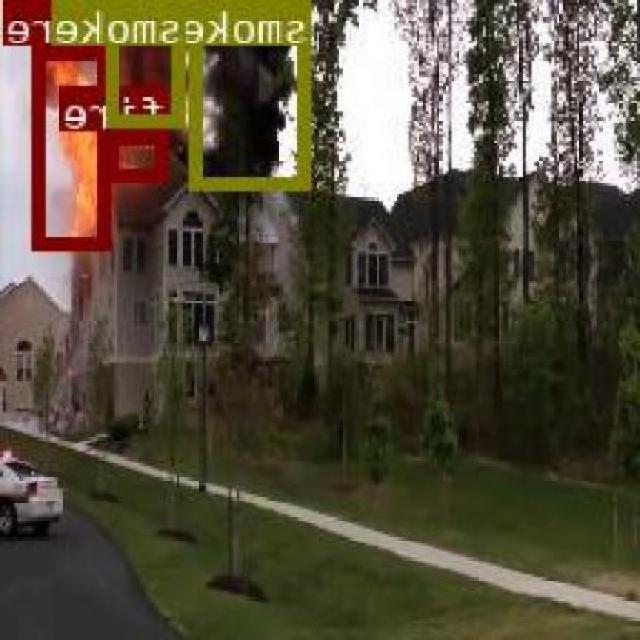Fire: (34, 45, 114, 246), (110, 128, 168, 180)
Smoke: (193, 0, 313, 186), (112, 0, 188, 123)
